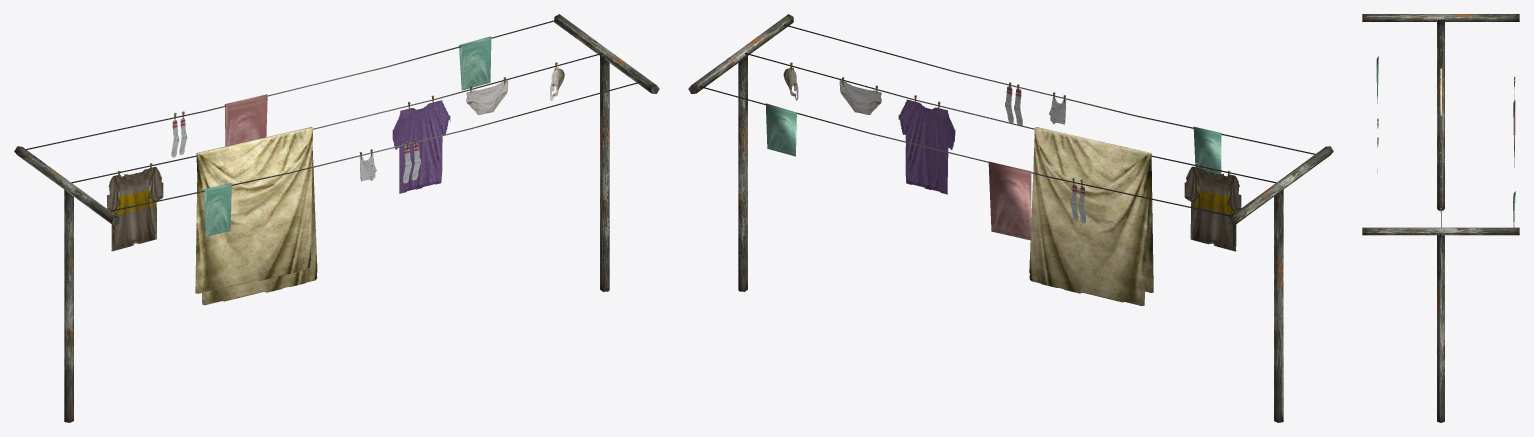
File: rooftop_clothesline5mvar.fbx
3 views of the same model, side by side, from view 1: azimuth 30°, elevation 25°; view 2: azimuth 150°, elevation 25°; view 3: azimuth 270°, elevation 25° (orthographic). The views are drawn at different scales.
Visible parts, largest first — view 1: mesh_0; view 2: mesh_0; view 3: mesh_0.
Part boxes in pixels (x1,y1,x2,y2): mesh_0: (14,14,659,422); mesh_0: (688,14,1333,422); mesh_0: (1362,14,1519,422).
Size of the model in its own units: 488 by 204 by 150.
Materials: 1 (1 with a texture image).
